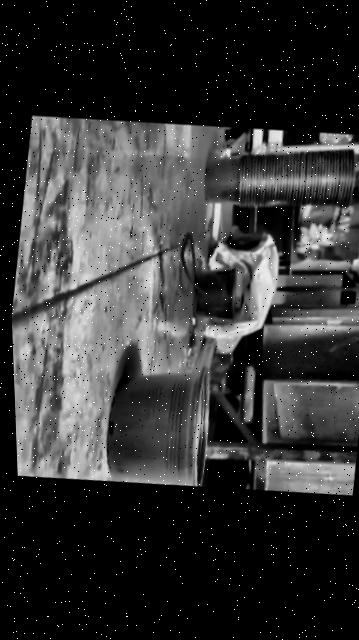pot: (99, 352, 219, 495), (189, 262, 241, 324)
